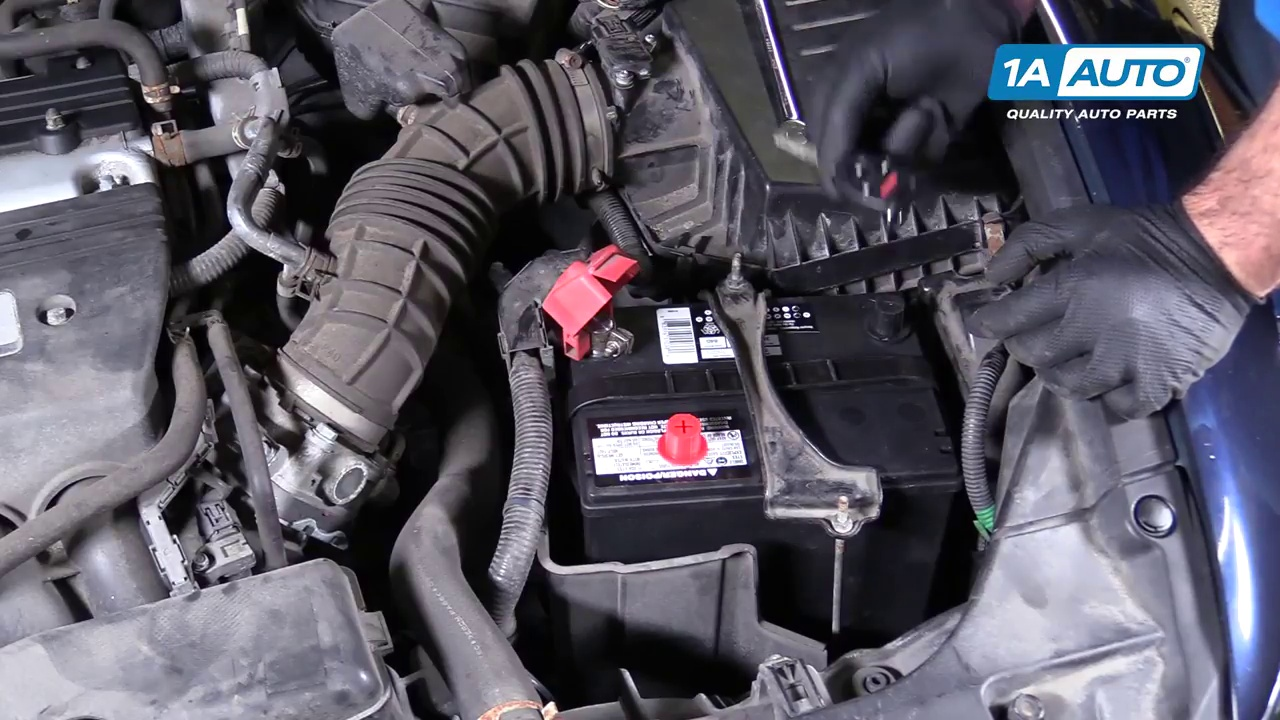battery: (547, 280, 969, 491)
pos_connected: (517, 241, 653, 369)
